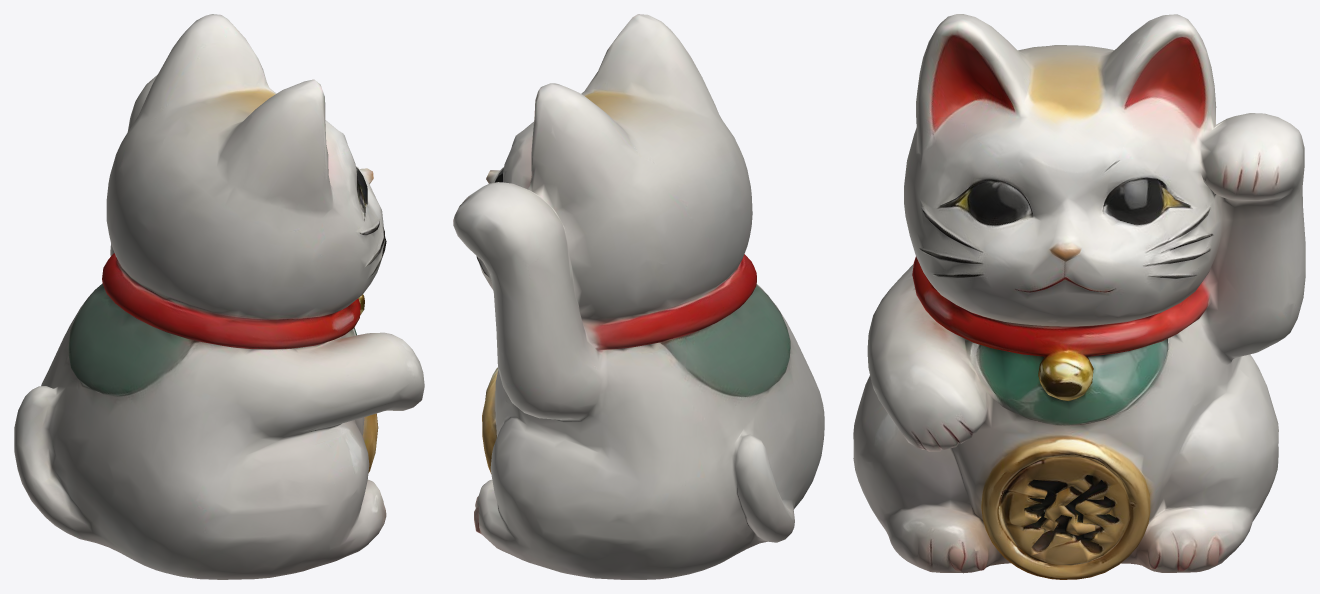
The model's file is tokyo_lucky_cat.glb.
The picture shows the model from 3 angles, left to right: view 1: azimuth 30°, elevation 25°; view 2: azimuth 150°, elevation 25°; view 3: azimuth 270°, elevation 25°; orthographic projection. The views are drawn at different scales.
Visible parts, largest first — view 1: tripo_node_45be9af3-b35f-4435-aee8-2b6a4066ac12; view 2: tripo_node_45be9af3-b35f-4435-aee8-2b6a4066ac12; view 3: tripo_node_45be9af3-b35f-4435-aee8-2b6a4066ac12.
Part boxes in pixels (left/top/right/bottom): tripo_node_45be9af3-b35f-4435-aee8-2b6a4066ac12: left=14, top=14, right=424, bottom=579; tripo_node_45be9af3-b35f-4435-aee8-2b6a4066ac12: left=453, top=14, right=824, bottom=579; tripo_node_45be9af3-b35f-4435-aee8-2b6a4066ac12: left=853, top=14, right=1305, bottom=579.
Size of the model in its own units: 0.7297 by 1 by 0.7711.
1 material, 1 textured.
